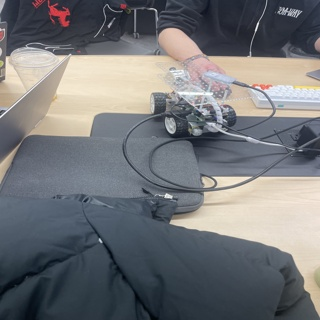vehicle: (148, 60, 238, 134)
